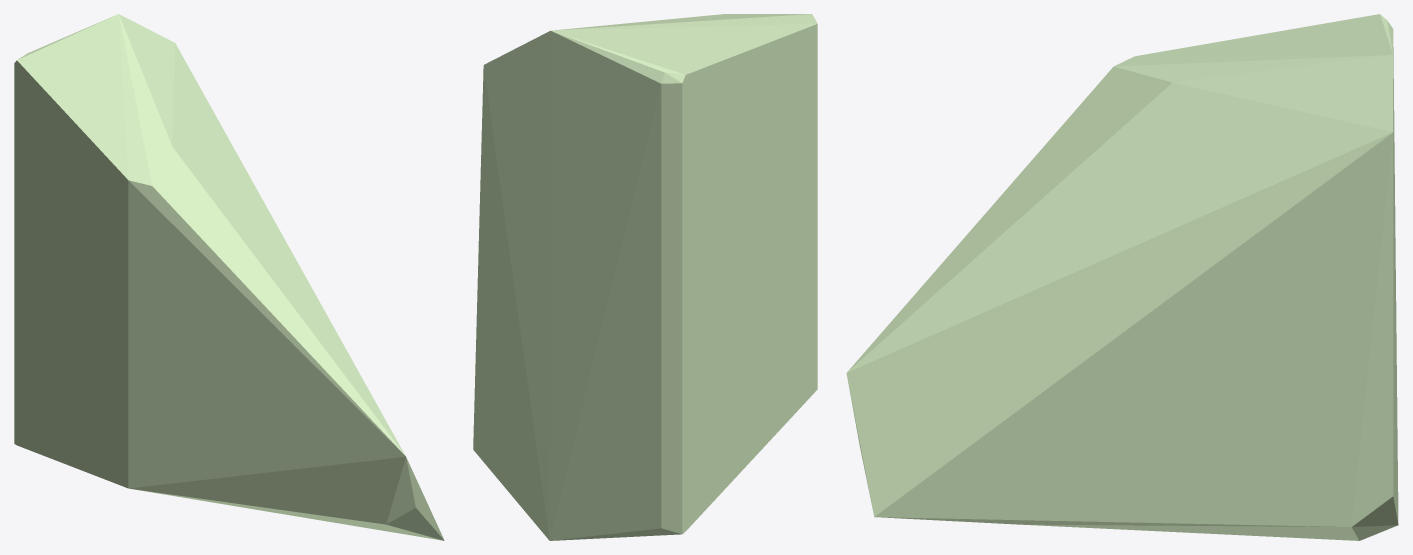
Rendered from kuka_URDF_robot_base_coll_17.dae.
3 views of the same model, side by side, from view 1: azimuth 30°, elevation 25°; view 2: azimuth 150°, elevation 25°; view 3: azimuth 270°, elevation 25° (orthographic). The views are drawn at different scales.
Parts seen in each view (by area): view 1: Node_0000020FCC5901C0; view 2: Node_0000020FCC5901C0; view 3: Node_0000020FCC5901C0.
Boxes of the visible parts, x1,y1,x2,y2 form: Node_0000020FCC5901C0: [14, 14, 444, 540]; Node_0000020FCC5901C0: [473, 14, 817, 540]; Node_0000020FCC5901C0: [846, 14, 1398, 540].
Bounding box in the file's own units: 0.0686 × 0.144 × 0.1506.
